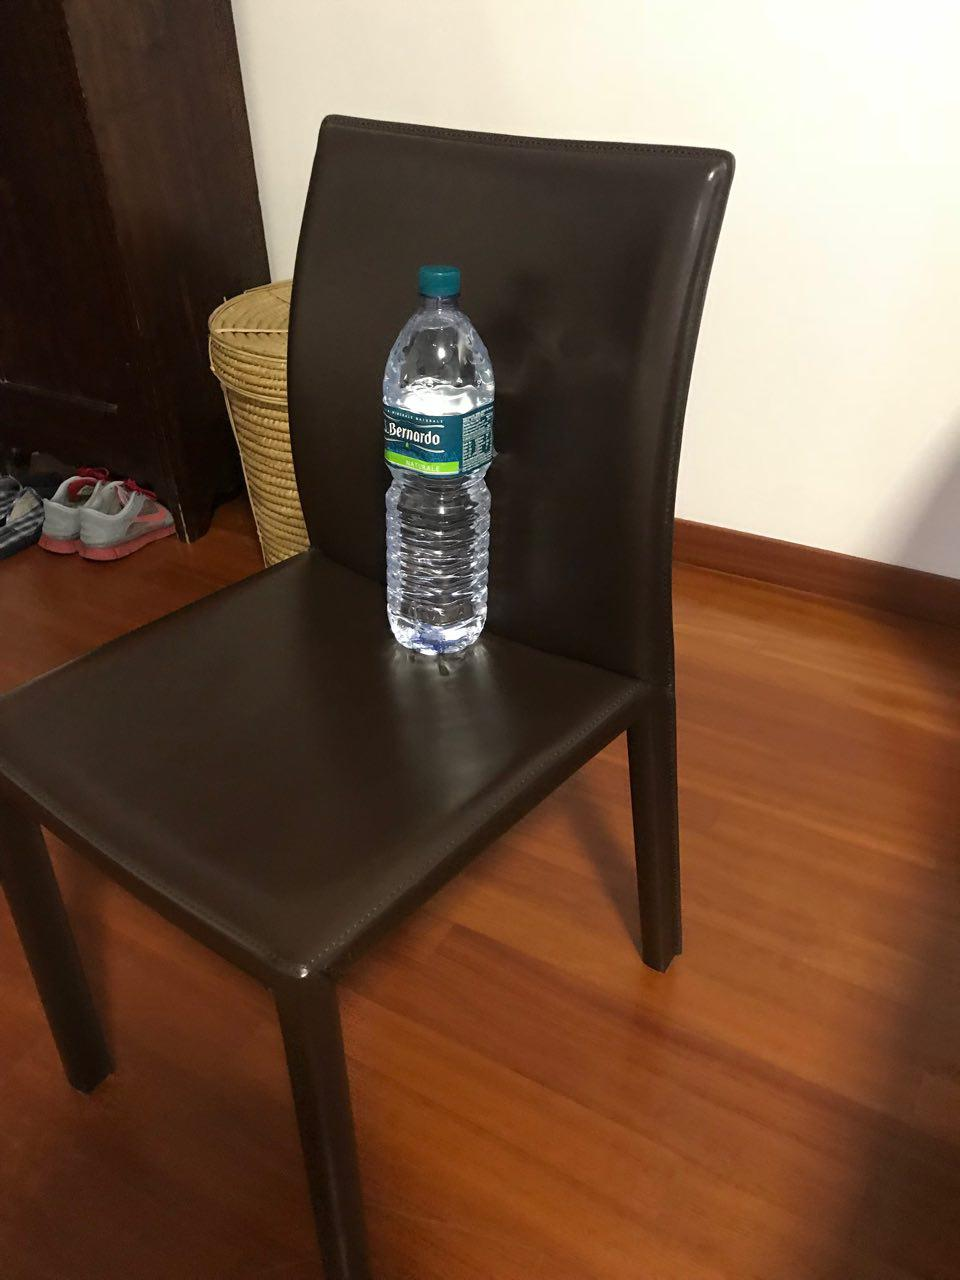san_bernardo: (382, 263, 495, 655)
